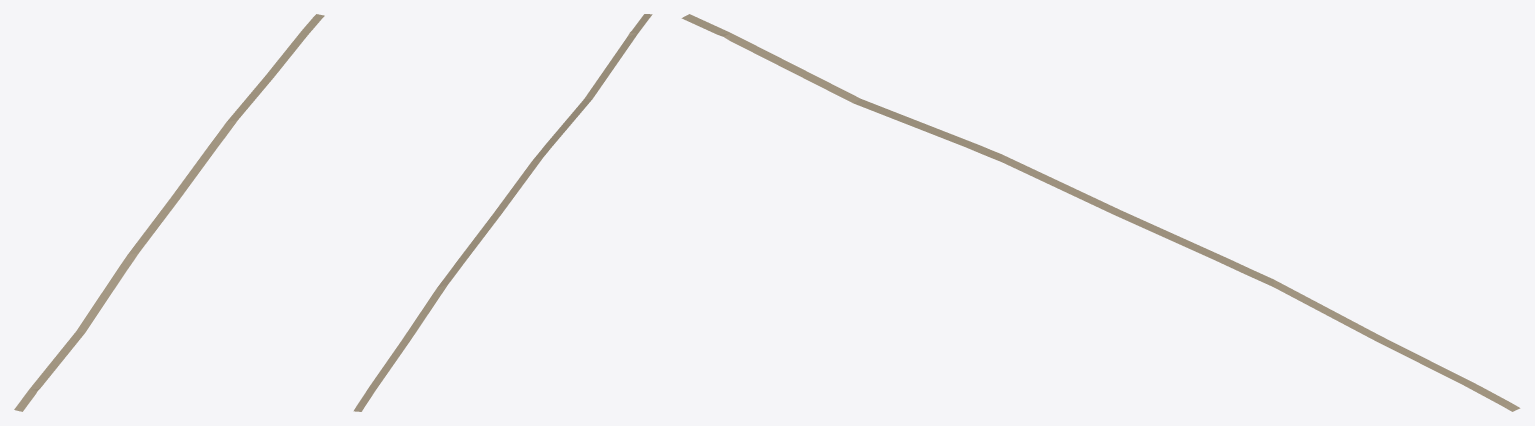
The model's file is farm_-28_-33_track.glb.
3 renders of one model, left to right at view 1: azimuth 30°, elevation 25°; view 2: azimuth 210°, elevation 25°; view 3: azimuth 270°, elevation 25°, orthographic. The views are drawn at different scales.
Visible parts, largest first — view 1: geometry_0; view 2: geometry_0; view 3: geometry_0.
Boxes of the visible parts, left/top/right/bottom form: geometry_0: left=14, top=14, right=324, bottom=411; geometry_0: left=353, top=14, right=652, bottom=411; geometry_0: left=681, top=14, right=1520, bottom=411.
Size of the model in its own units: 269 by 5.01 by 247.
